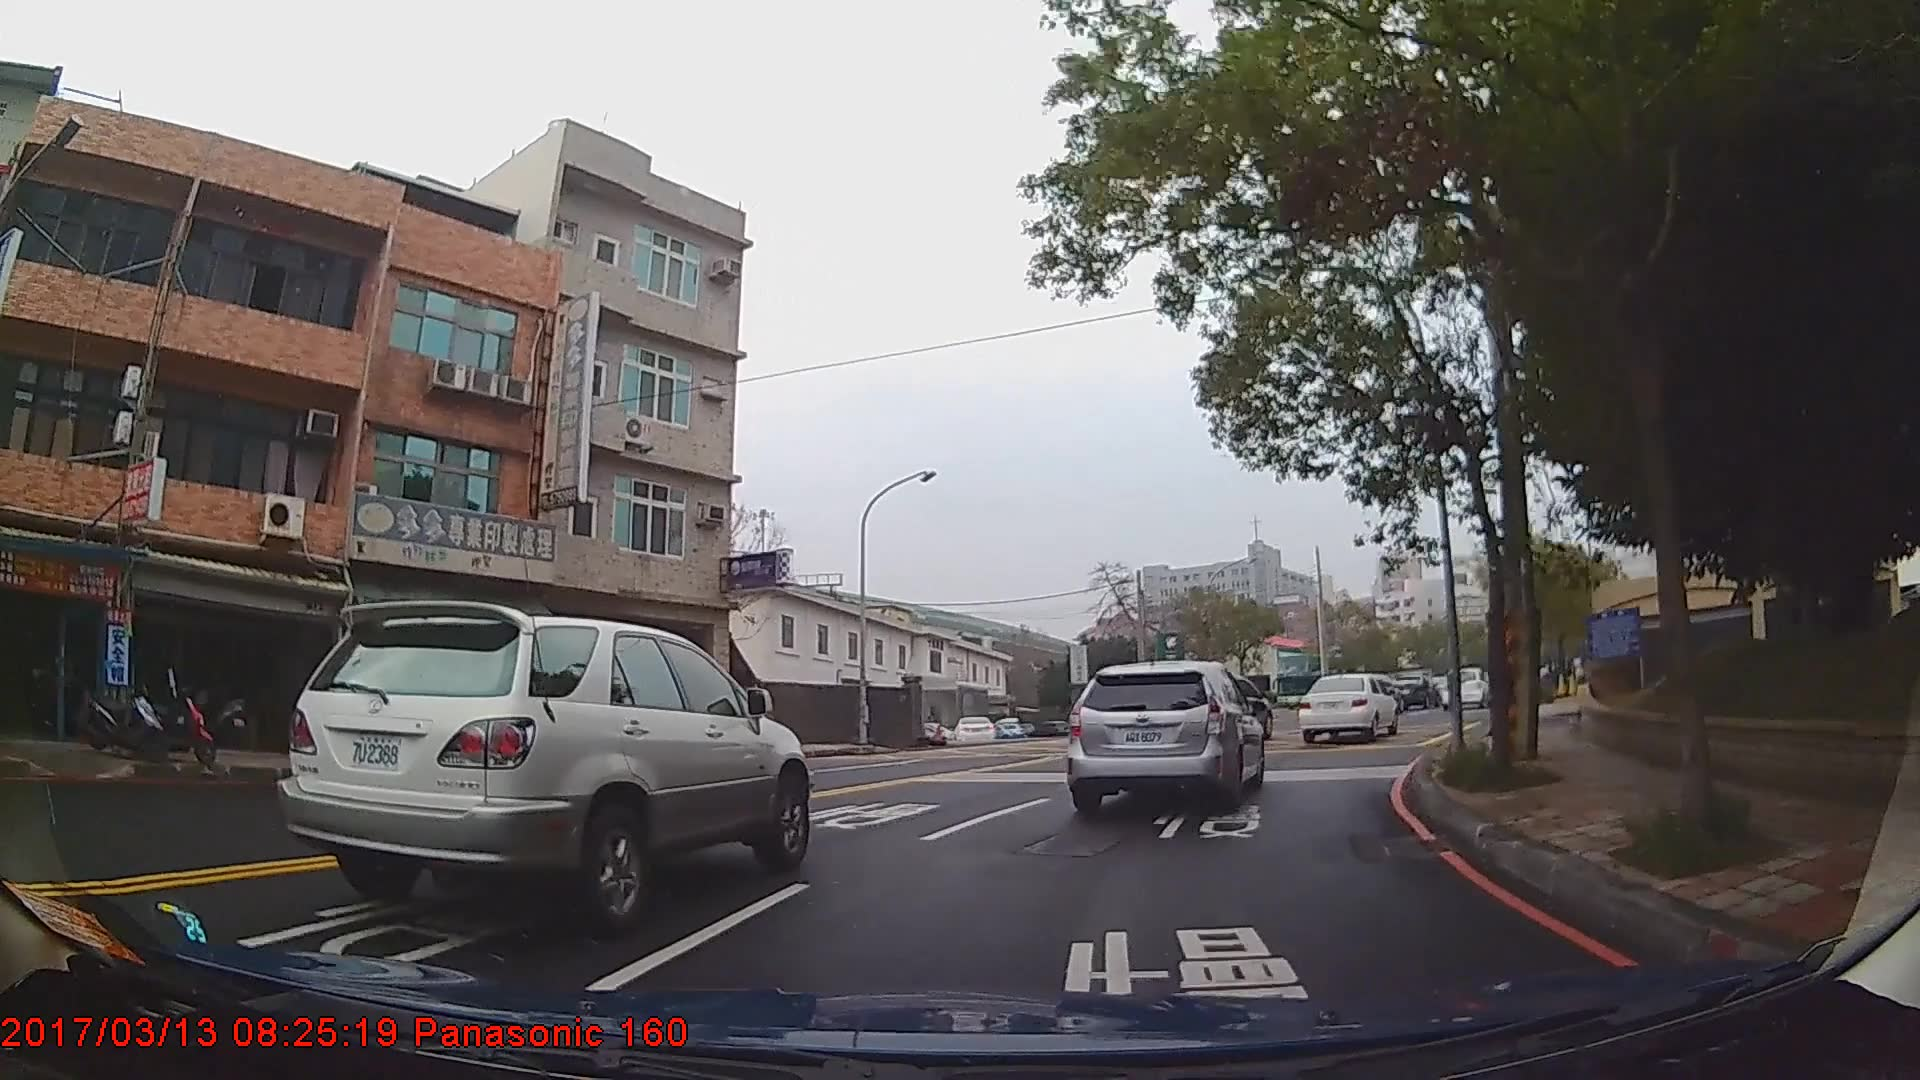vehicle: (273, 600, 811, 940), (1062, 657, 1263, 810), (1295, 671, 1399, 740), (1437, 666, 1491, 713), (949, 712, 994, 741)
